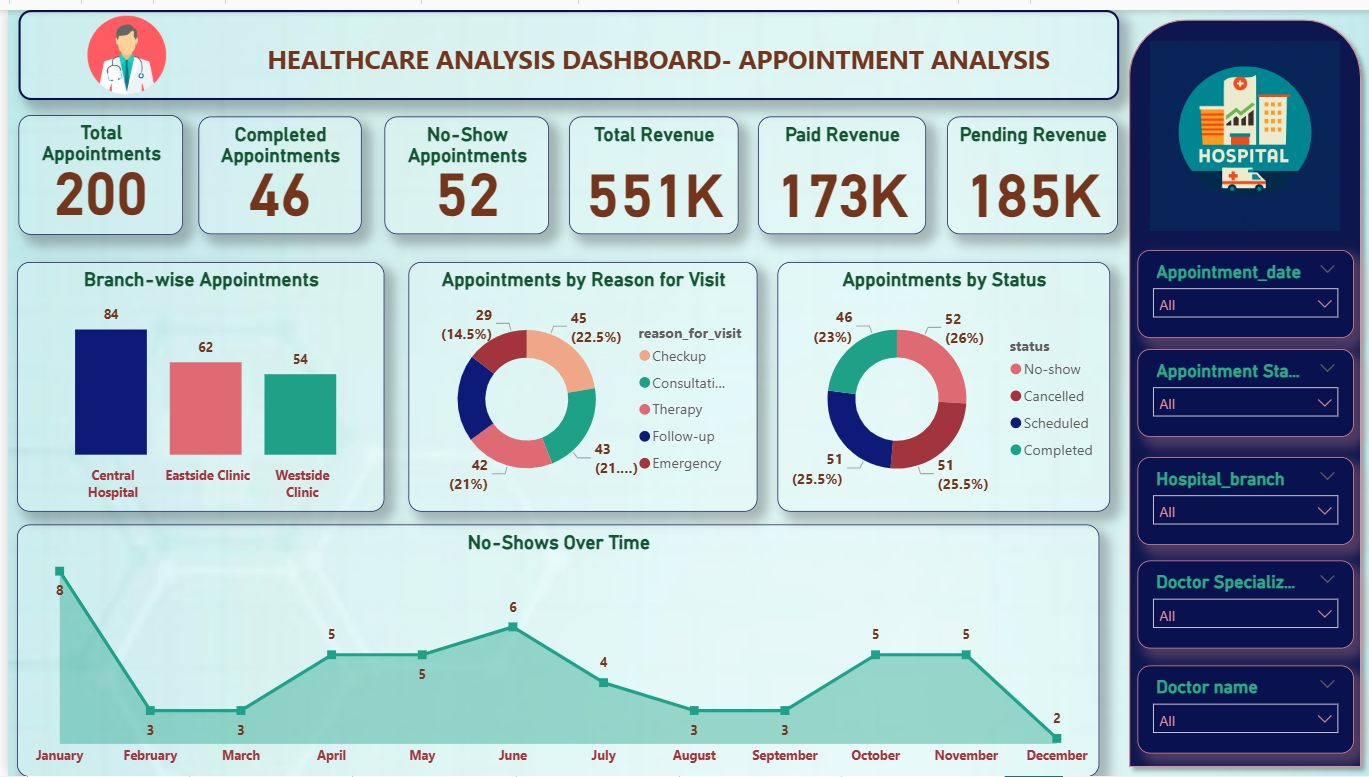

What the dashboard file says about the page in this screenshot:
{"tool":"powerbi","page":{"name":"Dashboard 1","canvas":[1280,720],"ordinal":0},"visuals":[{"type":"shape","box":[1044.1,0,236,720.5],"z":0},{"type":"textbox","box":[9.4,0,1034.7,84.4],"z":1000},{"type":"image","box":[0,0,223.5,84.4],"z":2000},{"type":"image","box":[1061.3,23.4,203.2,189.1],"z":3000},{"type":"card","title":"Total Appointments","fields":{"Values":["CountNonNull(appointments.appointment_id)"]},"box":[9.4,98.5,154.7,112.5],"z":4000},{"type":"card","title":"Completed Appointments","fields":{"Values":["CountNonNull(appointments.appointment_id)"]},"box":[179.7,100,153.2,111],"z":5000},{"type":"card","title":"No-Show Appointments","fields":{"Values":["CountNonNull(appointments.appointment_id)"]},"box":[353.2,100,154.7,111],"z":6000},{"type":"card","title":"Total Revenue","fields":{"Values":["Sum(billing.amount)"]},"box":[526.7,100,159.4,111],"z":7000},{"type":"card","title":"Paid Revenue","fields":{"Values":["Sum(billing.amount)"]},"box":[704.9,100,157.9,111],"z":8000},{"type":"card","title":"Pending Revenue","fields":{"Values":["Sum(billing.amount)"]},"box":[883.1,100,161,111],"z":9000},{"type":"slicer","fields":{"Values":["appointments.appointment_date"]},"box":[1061.3,225.1,203.2,82.8],"z":10000},{"type":"slicer","fields":{"Values":["appointments.status"]},"box":[1061.3,318.8,203.2,82.8],"z":11000},{"type":"slicer","fields":{"Values":["doctors.hospital_branch"]},"box":[1061.3,420.4,203.2,82.8],"z":12000},{"type":"slicer","fields":{"Values":["doctors.specialization"]},"box":[1061.3,517.3,203.2,82.8],"z":13000},{"type":"slicer","fields":{"Values":["doctors.Full name"]},"box":[1061.3,615.8,203.2,82.8],"z":14000},{"type":"treemap","title":"Treatment Distribution by Type","fields":{"Group":["treatments.treatment_type"],"Values":["Sum(treatments.cost)"]},"box":[9.4,225.1,498.6,237.6],"z":15000},{"type":"lineChart","title":"Monthly Appointment Trend","fields":{"Category":["appointments.appointment_date.Variation.Date Hierarchy.Month"],"Y":["CountNonNull(appointments.appointment_id)"]},"box":[9.4,473.6,498.6,225.1],"z":16000},{"type":"lineChart","title":"Monthly Revenue Trend","fields":{"Category":["billing.bill_date.Variation.Date Hierarchy.Month"],"Y":["Sum(billing.amount)"]},"box":[526.7,473.6,517.3,225.1],"z":17000},{"type":"barChart","title":"Revenue by Hospital Branch","fields":{"Category":["doctors.hospital_branch"],"Y":["Sum(billing.amount)"]},"box":[526.7,225.1,517.3,237.6],"z":18000}]}

Visuals, with their boxes in screenshot pixels (x1, y1, x2, y2), scaled from the page's 1280x720 canvas onto the 1369x777 screenshot:
shape: locate(1117, 0, 1368, 776)
textbox: locate(10, 0, 1117, 91)
image: locate(0, 0, 239, 91)
image: locate(1135, 25, 1352, 229)
"Total Appointments" card: locate(10, 106, 176, 228)
"Completed Appointments" card: locate(192, 108, 356, 228)
"No-Show Appointments" card: locate(378, 108, 543, 228)
"Total Revenue" card: locate(563, 108, 734, 228)
"Paid Revenue" card: locate(754, 108, 923, 228)
"Pending Revenue" card: locate(945, 108, 1117, 228)
slicer - appointments.appointment_date: locate(1135, 243, 1352, 332)
slicer - appointments.status: locate(1135, 344, 1352, 433)
slicer - doctors.hospital_branch: locate(1135, 454, 1352, 543)
slicer - doctors.specialization: locate(1135, 558, 1352, 648)
slicer - doctors.Full name: locate(1135, 665, 1352, 754)
"Treatment Distribution by Type" treemap: locate(10, 243, 543, 499)
"Monthly Appointment Trend" lineChart: locate(10, 511, 543, 754)
"Monthly Revenue Trend" lineChart: locate(563, 511, 1117, 754)
"Revenue by Hospital Branch" barChart: locate(563, 243, 1117, 499)
